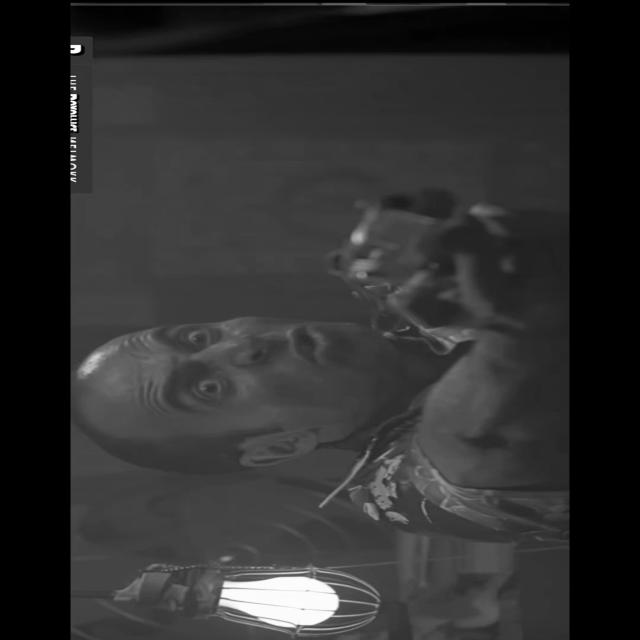weapons: (292, 181, 538, 305)
